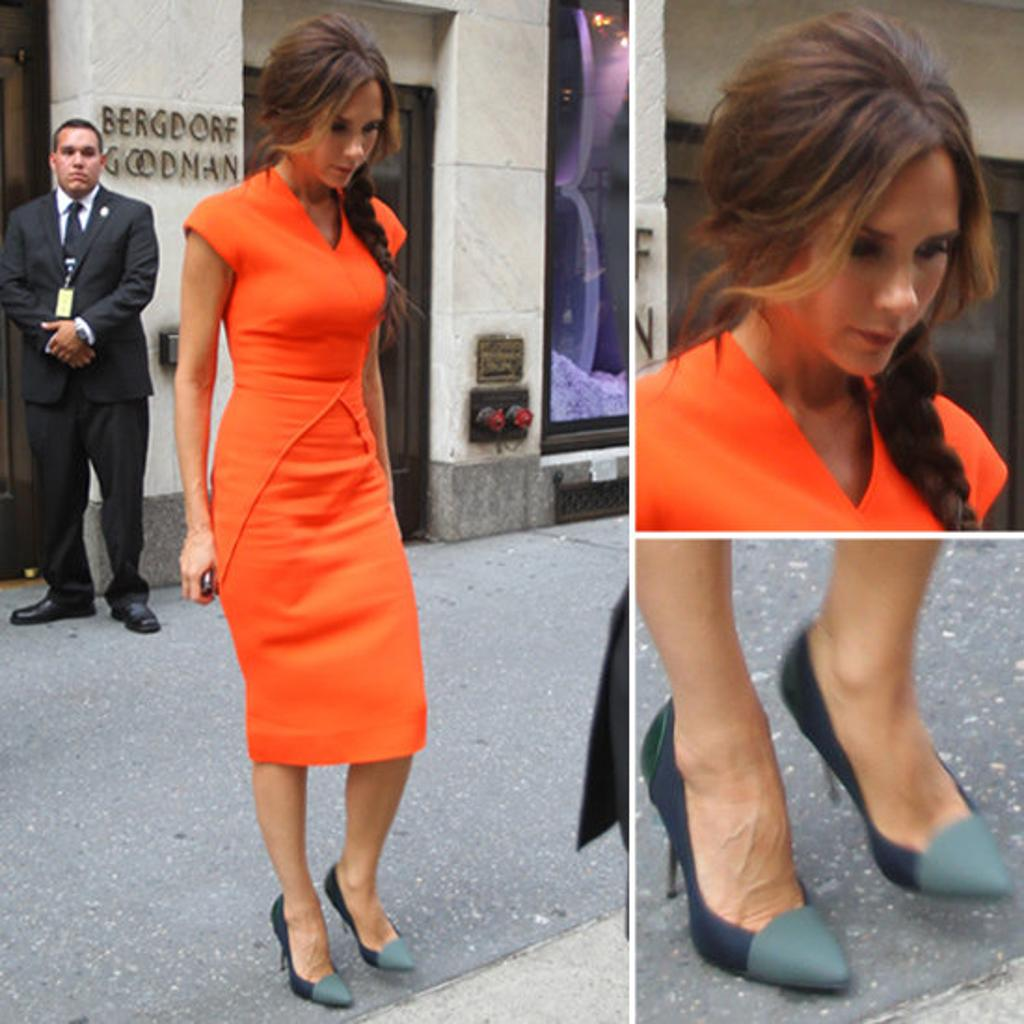face: (789, 165, 960, 375), (300, 90, 383, 187), (54, 132, 100, 192)
